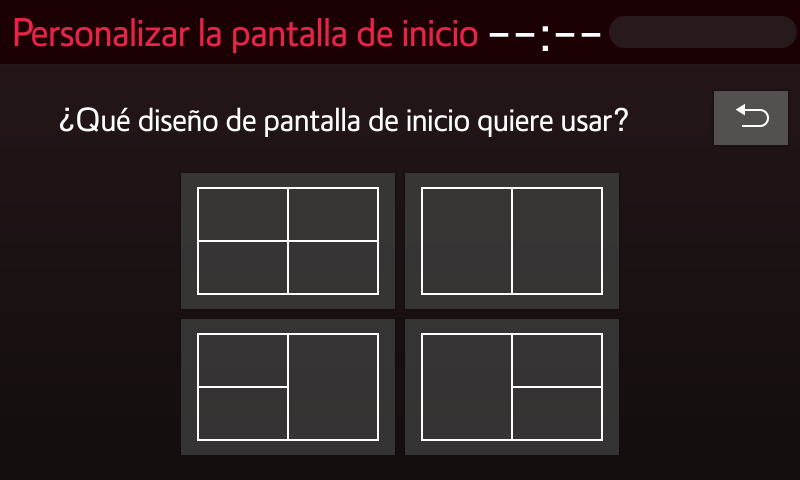touchPart: (402, 167, 626, 314), (177, 316, 400, 461), (401, 314, 623, 459), (176, 170, 399, 313), (702, 84, 793, 151)
untouchPart: (53, 98, 633, 141), (10, 11, 477, 54), (485, 9, 797, 53)
